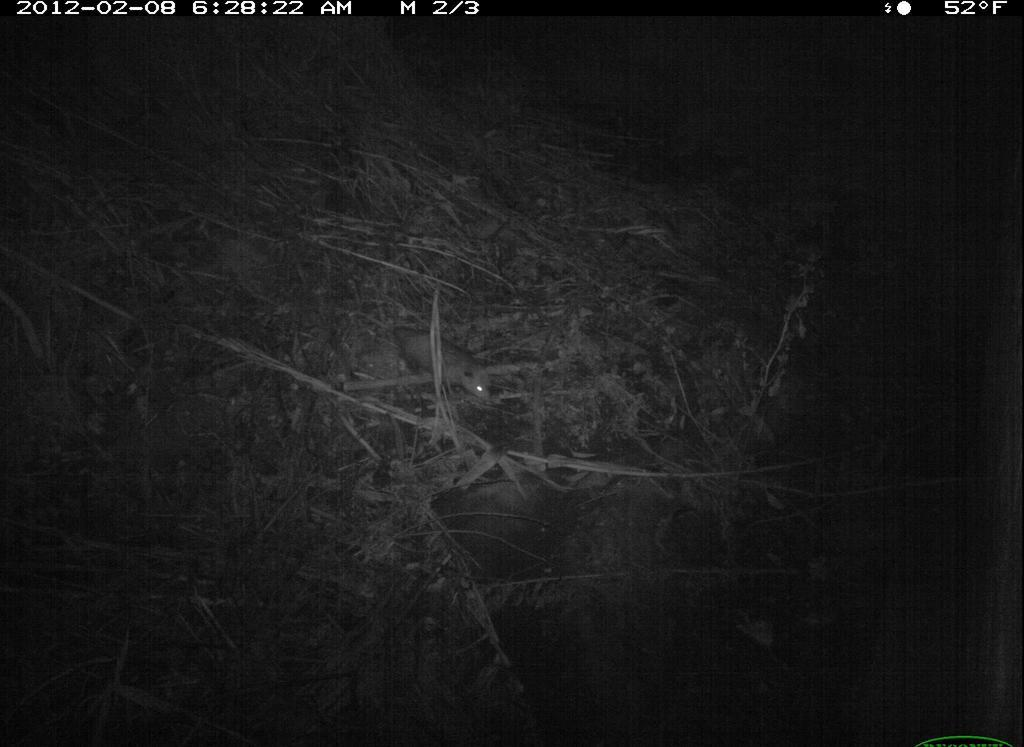opossum: (358, 303, 504, 436)
